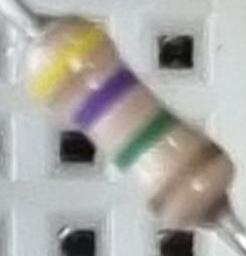Blue: (74, 65, 135, 132)
Green: (111, 107, 184, 175)
Side-Silver: (150, 143, 225, 220)
Yellow: (26, 28, 115, 105)
